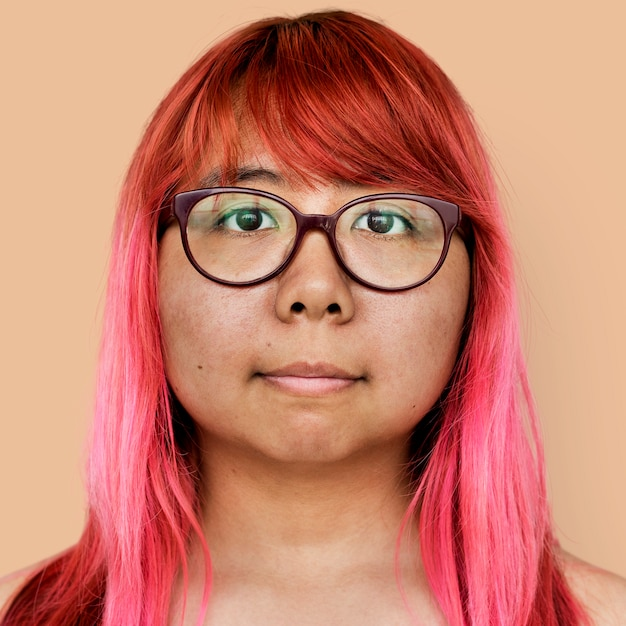teen: (172, 61, 494, 455)
